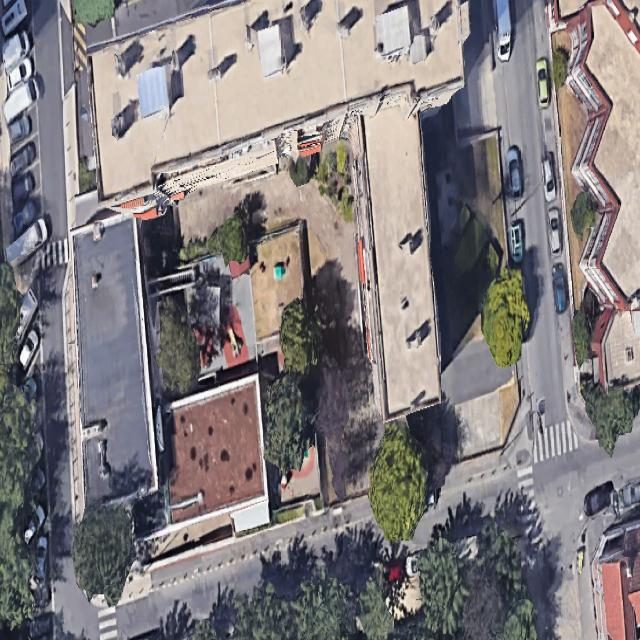immeuble: (80, 0, 461, 419), (565, 0, 639, 387), (66, 213, 158, 504), (160, 374, 267, 522), (590, 519, 639, 639)
